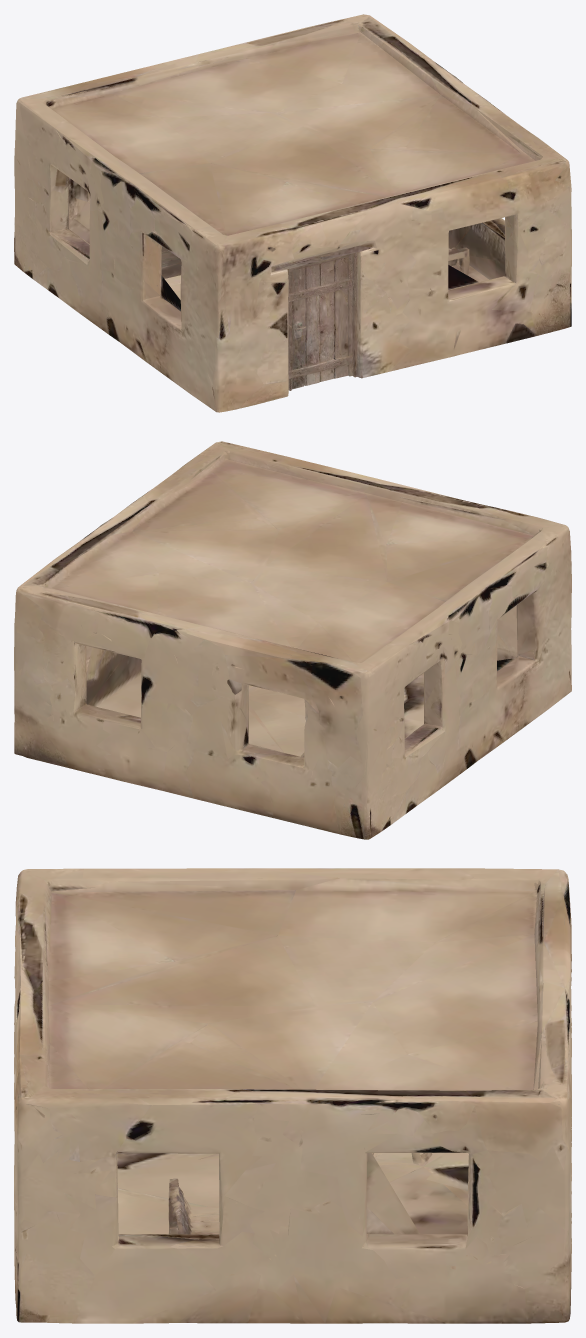
The model's file is adobe_house_a.glb.
The picture shows the model from 3 angles, top to bottom: view 1: azimuth 30°, elevation 25°; view 2: azimuth 150°, elevation 25°; view 3: azimuth 270°, elevation 25°; orthographic projection. The views are drawn at different scales.
Visible parts, largest first — view 1: Mesh_0; view 2: Mesh_0; view 3: Mesh_0.
Boxes of the visible parts, <box> form: Mesh_0: <box>14,14,571,412</box>; Mesh_0: <box>14,441,571,839</box>; Mesh_0: <box>14,868,571,1323</box>.
Size of the model in its own units: 1.9 by 0.8373 by 1.9.
1 material, 1 textured.
